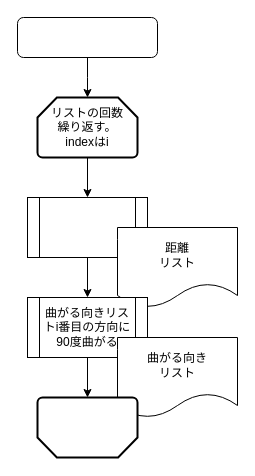
The diagram is 255 pixels wide and 476 high, and some of its shapes have lost their labels. Here are the shapes that lost their labels. From the top down, the centre of each, then its label:
At pixel 87 37: "maze".
At pixel 87 227: "距離リストi番目だけ進む".
